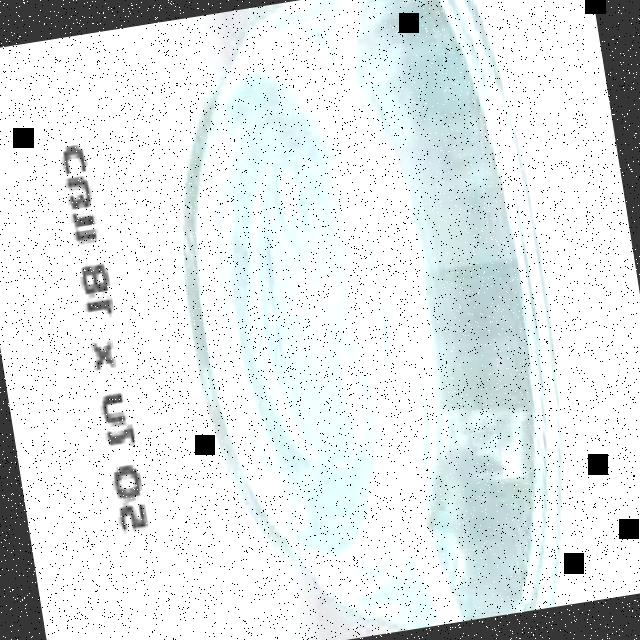plastic_box: (134, 0, 601, 640)
